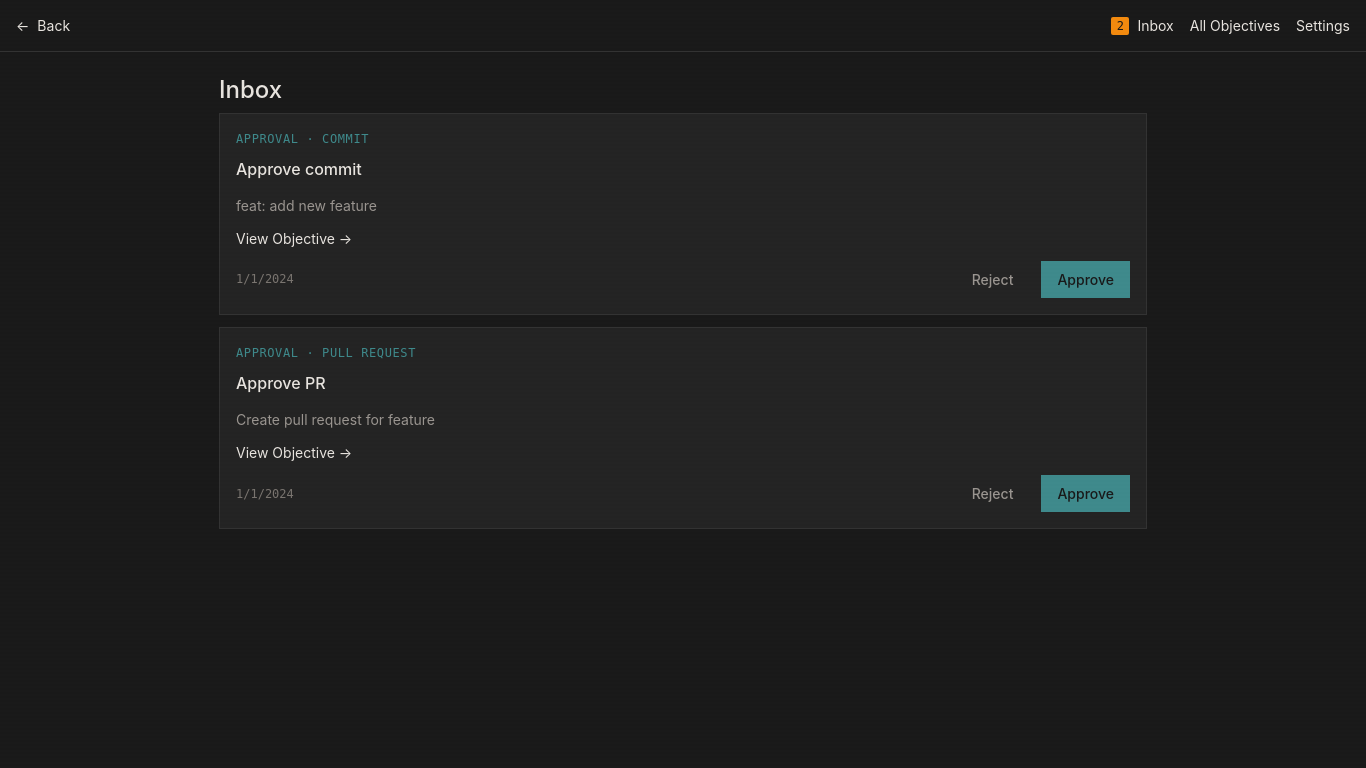
Test: Inbox › reject action › removes approval from list on reject
The image size is (1366, 768).
Expected: the heading "Approve commit" is shown, [236,159,362,179]
Click the 1st button "Reject".
click(993, 280)  # box [956,261,1029,298]
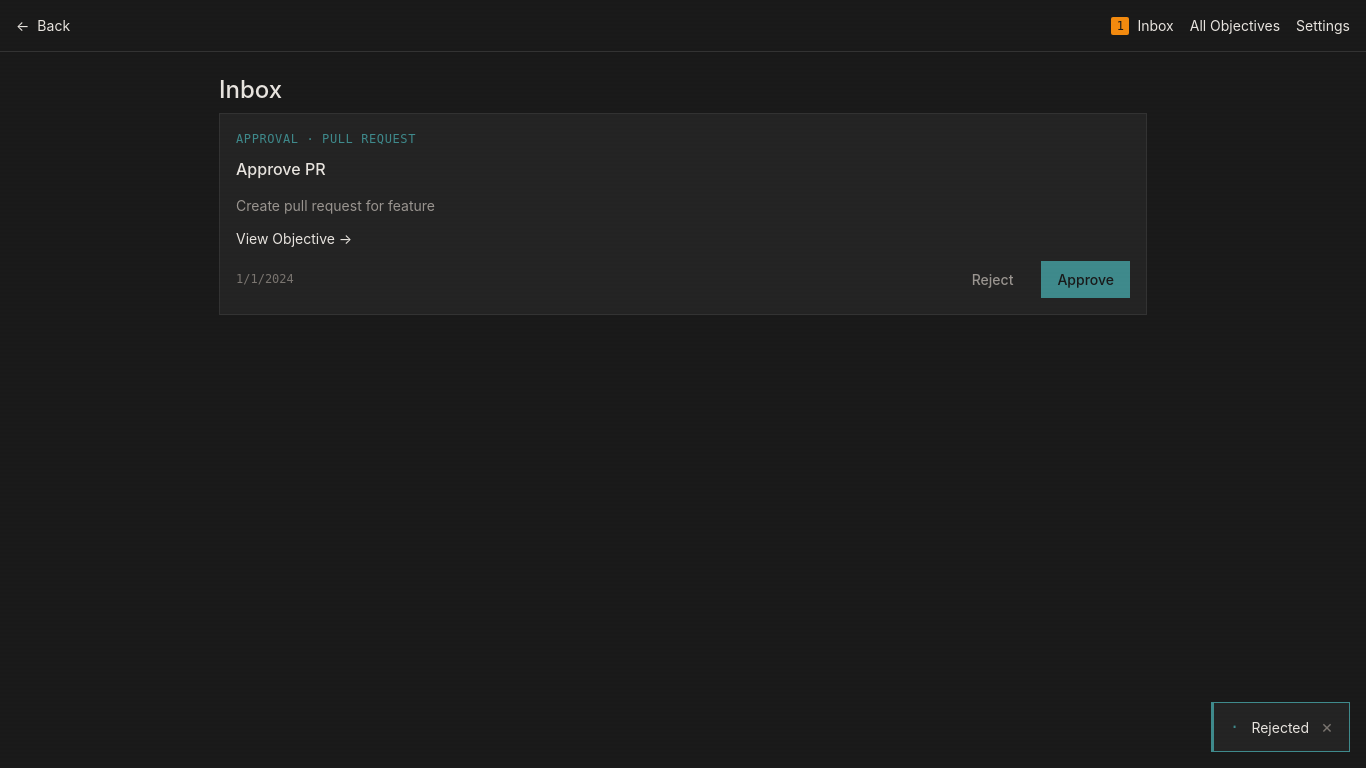
Expected: the heading "Approve commit" is gone
